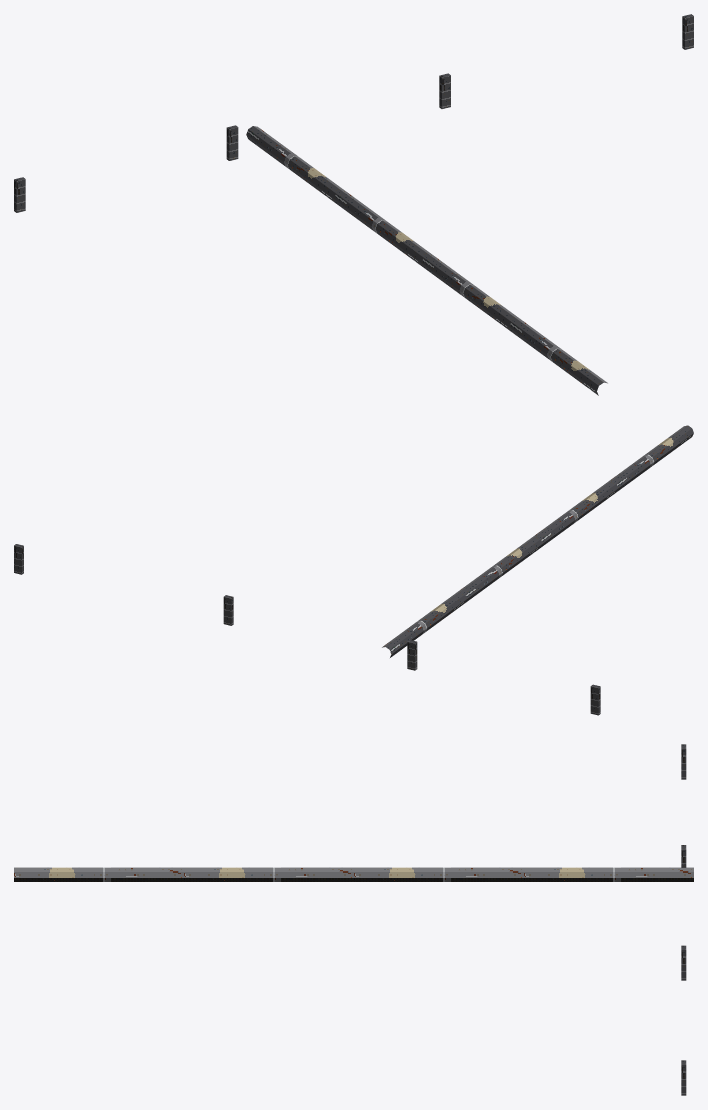
The model's file is SM_Env_PipeRunH_01.glb.
3 renders of one model, top to bottom at view 1: azimuth 30°, elevation 25°; view 2: azimuth 150°, elevation 25°; view 3: azimuth 270°, elevation 25°, orthographic. The views are drawn at different scales.
Visible parts, largest first — view 1: SM_Env_PipeRunH_01; view 2: SM_Env_PipeRunH_01; view 3: SM_Env_PipeRunH_01.
Part boxes in pixels (x1=…): SM_Env_PipeRunH_01: x1=14, y1=14, x2=693, y2=395; SM_Env_PipeRunH_01: x1=14, y1=425, x2=693, y2=715; SM_Env_PipeRunH_01: x1=14, y1=744, x2=693, y2=1095.
Bounding box in the file's own units: 4.46 × 0.2 × 4.
1 material, 1 textured.
